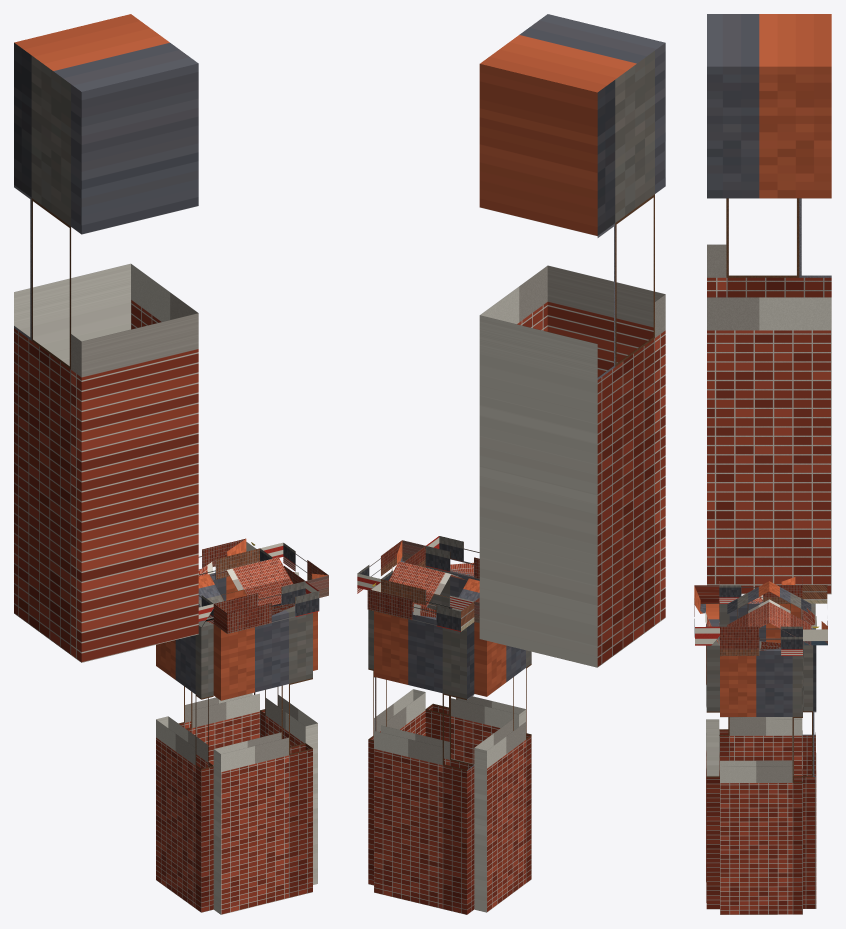
3 views of the same model, side by side, from view 1: azimuth 30°, elevation 25°; view 2: azimuth 150°, elevation 25°; view 3: azimuth 270°, elevation 25° (orthographic). The views are drawn at different scales.
Visible parts, largest first — view 1: 1106967128__chimney_0_xb, 1106967128__wall_2_xb, 1106967128__wall_3_xb, 1106967128__wall_0_xb, 1106967128__cornice_2, 1106967128__wall_1_xb, 1106967128_roof_-1_xb, 1106967128__cornice_0, 1106967128__cornice_1; view 2: 1106967128__chimney_0_xb, 1106967128__wall_0_xb, 1106967128__wall_3_xb, 1106967128__wall_2_xb, 1106967128__cornice_0, 1106967128__wall_1_xb, 1106967128_roof_1_xb, 1106967128__cornice_2, 1106967128__cornice_1; view 3: 1106967128__chimney_0_xb, 1106967128__wall_1_xb, 1106967128__wall_3_xb, 1106967128__wall_2_xb, 1106967128__wall_0_xb, 1106967128__cornice_1, 1106967128_roof_1_xb, 1106967128_roof_-1_xb, 1106967128__cornice_0, 1106967128__cornice_2, 1106967128__cornice_3.
Part boxes in pixels (<box>): 1106967128__chimney_0_xb: <box>14,14,198,662</box>; 1106967128__wall_2_xb: <box>213,606,312,914</box>; 1106967128__wall_3_xb: <box>156,620,213,912</box>; 1106967128__wall_0_xb: <box>178,572,259,765</box>; 1106967128__cornice_2: <box>213,581,319,633</box>; 1106967128__wall_1_xb: <box>260,603,317,884</box>; 1106967128_roof_-1_xb: <box>198,557,292,606</box>; 1106967128__cornice_0: <box>198,538,259,579</box>; 1106967128__cornice_1: <box>260,542,328,597</box>; 1106967128__chimney_0_xb: <box>479,14,665,667</box>; 1106967128__wall_0_xb: <box>374,611,474,914</box>; 1106967128__wall_3_xb: <box>474,622,531,912</box>; 1106967128__wall_2_xb: <box>425,566,525,764</box>; 1106967128__cornice_0: <box>367,579,474,631</box>; 1106967128__wall_1_xb: <box>368,567,425,885</box>; 1106967128_roof_1_xb: <box>388,561,479,611</box>; 1106967128__cornice_2: <box>425,536,479,579</box>; 1106967128__cornice_1: <box>357,540,425,593</box>; 1106967128__chimney_0_xb: <box>707,14,831,594</box>; 1106967128__wall_1_xb: <box>720,648,802,914</box>; 1106967128__wall_3_xb: <box>719,600,802,776</box>; 1106967128__wall_2_xb: <box>706,604,719,909</box>; 1106967128__wall_0_xb: <box>802,603,816,908</box>; 1106967128__cornice_1: <box>720,626,802,656</box>; 1106967128_roof_1_xb: <box>769,581,811,645</box>; 1106967128_roof_-1_xb: <box>727,581,769,636</box>; 1106967128__cornice_0: <box>802,585,827,645</box>; 1106967128__cornice_2: <box>694,585,719,645</box>; 1106967128__cornice_3: <box>719,576,802,603</box>.
Bounding box in the file's own units: 0.3264 × 1.05 × 0.1653.
Materials: 1 (1 with a texture image).
